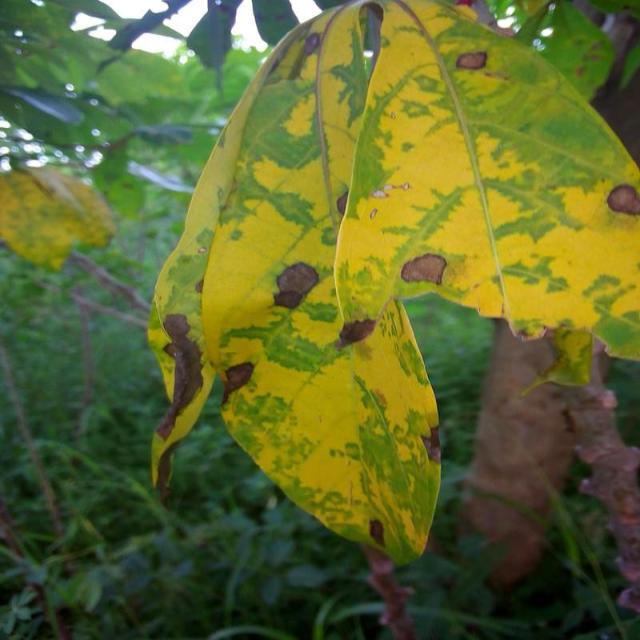cassava leaf: (147, 0, 639, 567), (333, 0, 640, 378)
